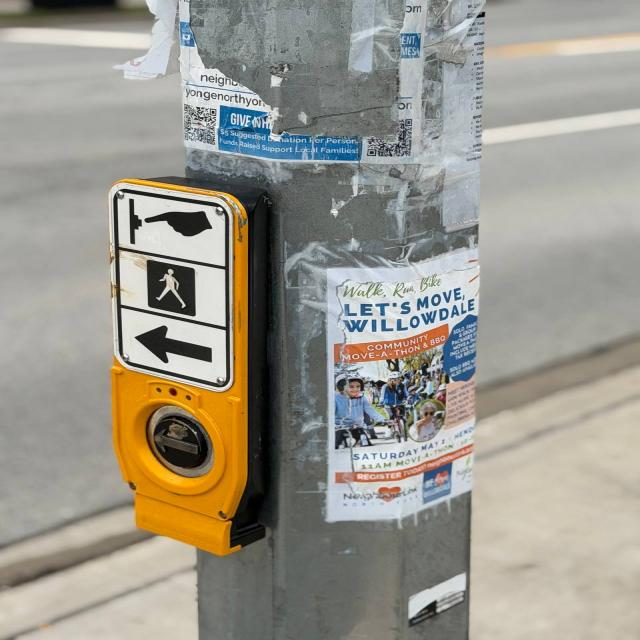Electrical Pole: (101, 3, 501, 640)
